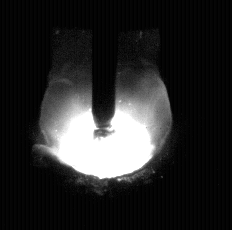arame: (92, 0, 117, 136)
poca: (38, 0, 172, 230)
